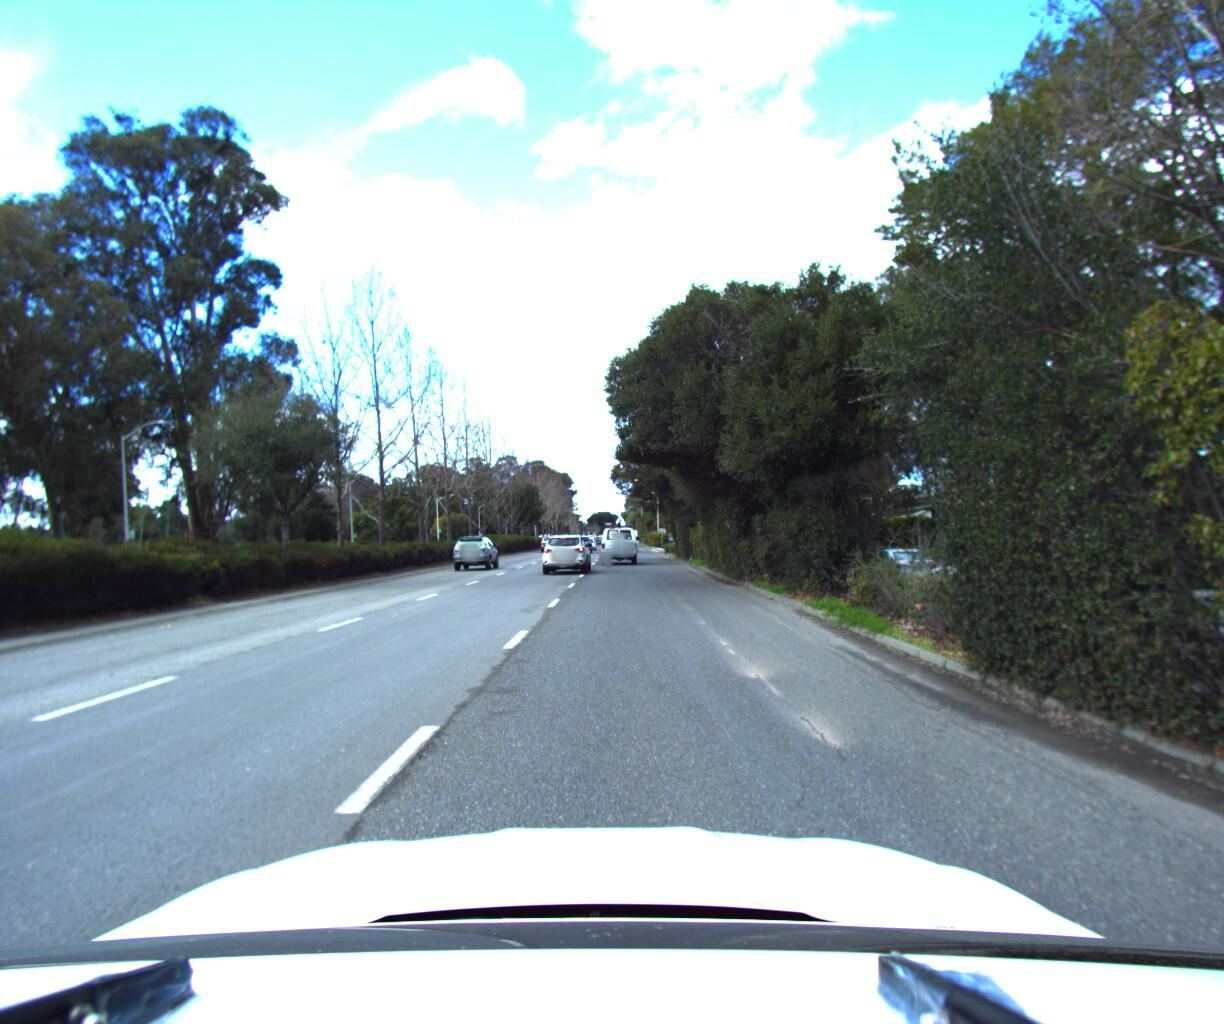car: (538, 531, 594, 577), (599, 521, 644, 568), (451, 536, 503, 574)
